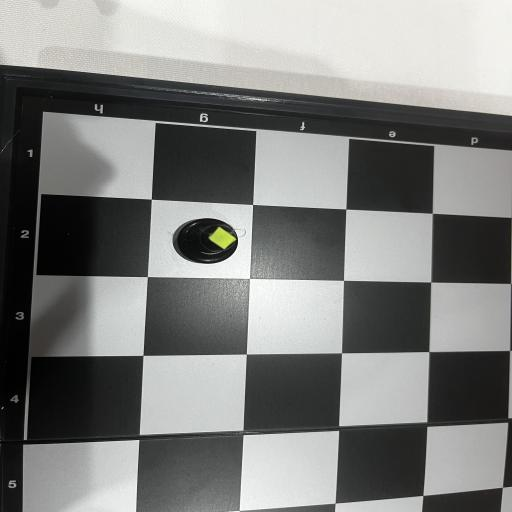Black pawn: (172, 218, 239, 264)
